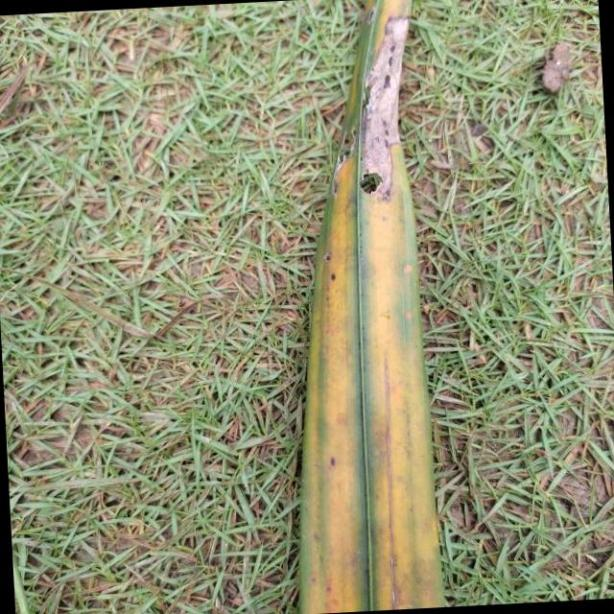Megnesium: (291, 0, 449, 614)
